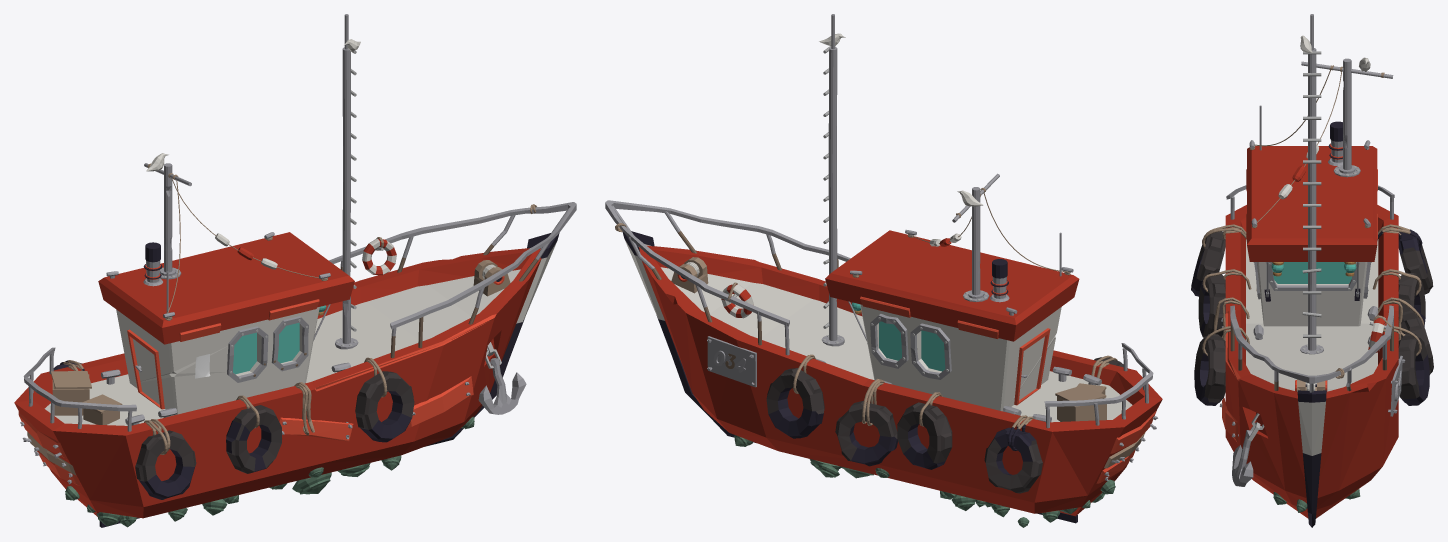
File: Ship.fbx
3 views of the same model, side by side, from view 1: azimuth 30°, elevation 25°; view 2: azimuth 150°, elevation 25°; view 3: azimuth 270°, elevation 25° (orthographic). The views are drawn at different scales.
Parts seen in each view (by area): view 1: Ship; view 2: Ship; view 3: Ship.
Part boxes in pixels (bbox=[...]): Ship: bbox=[14, 14, 576, 527]; Ship: bbox=[605, 14, 1162, 527]; Ship: bbox=[1191, 14, 1433, 527].
Bounding box in the file's own units: 68.98 × 55.13 × 26.25.
